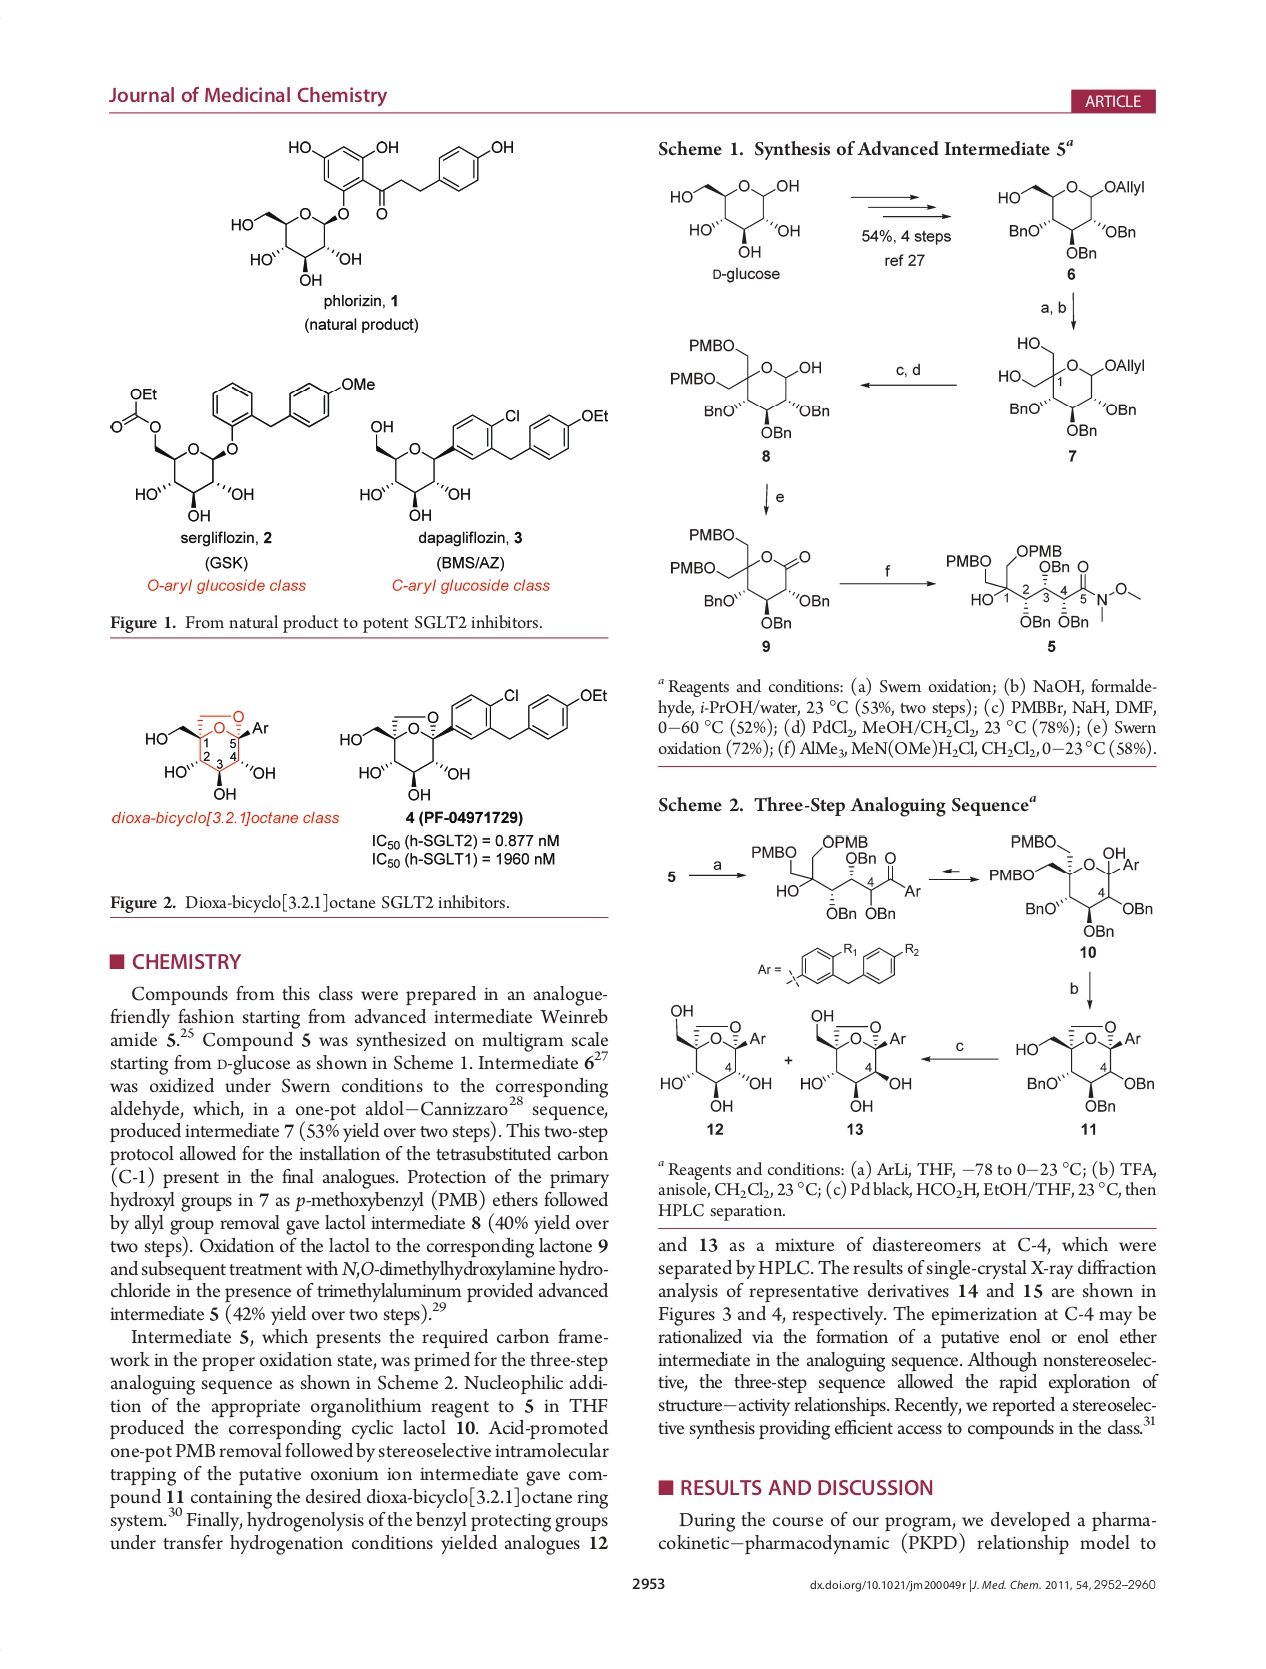exist_molecular: (227, 133, 516, 290), (104, 374, 376, 527), (335, 684, 608, 802), (352, 404, 610, 523), (985, 829, 1158, 942), (665, 523, 832, 632), (942, 540, 1142, 630), (668, 335, 832, 443), (993, 332, 1148, 442), (749, 833, 924, 922), (989, 174, 1149, 265), (1012, 1017, 1158, 1114), (656, 999, 777, 1116), (795, 1005, 918, 1114), (141, 710, 279, 805), (665, 178, 805, 259)
